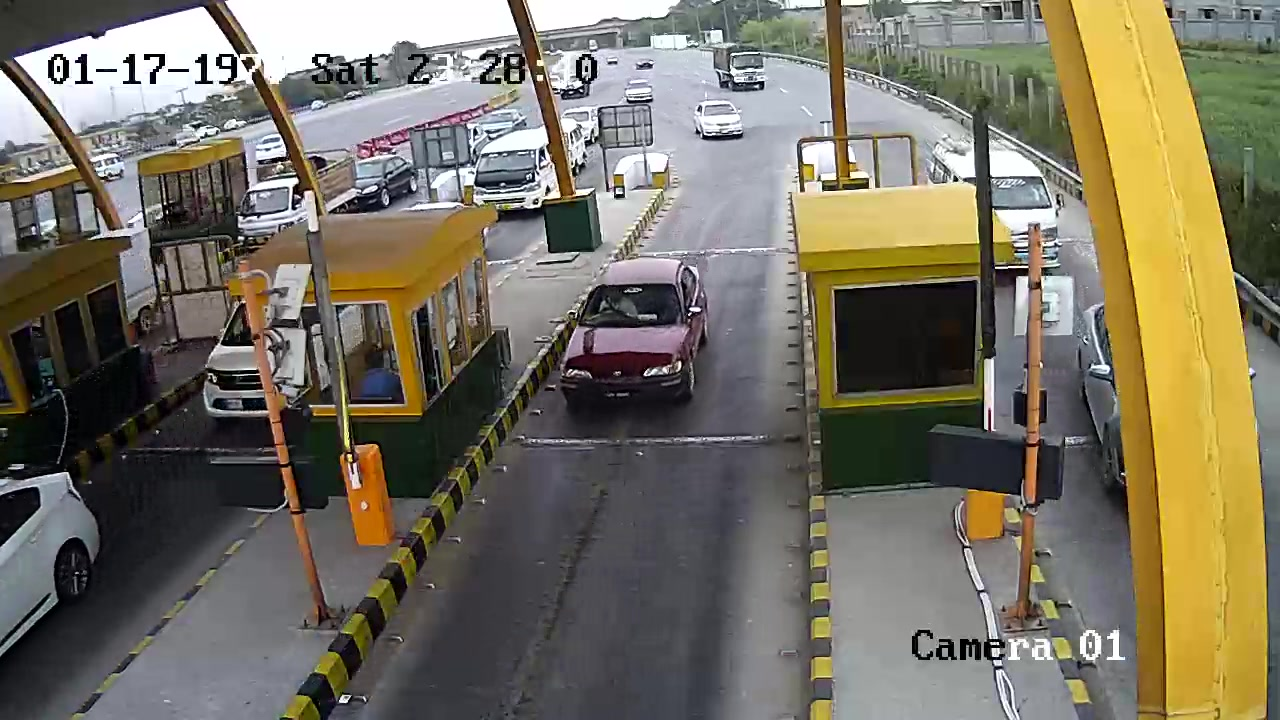F1: (555, 242, 727, 430)
